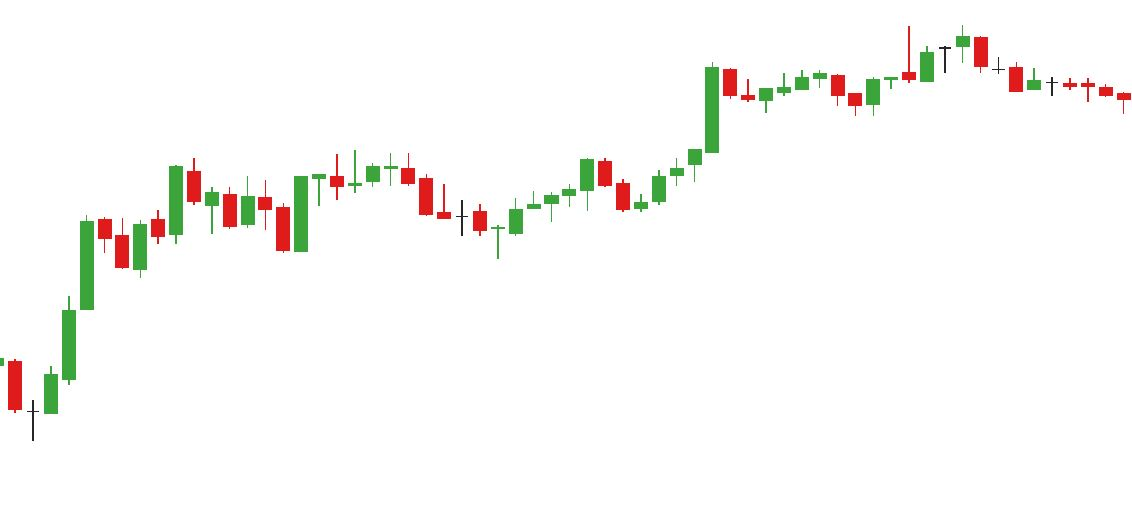buy: (202, 185, 312, 256)
